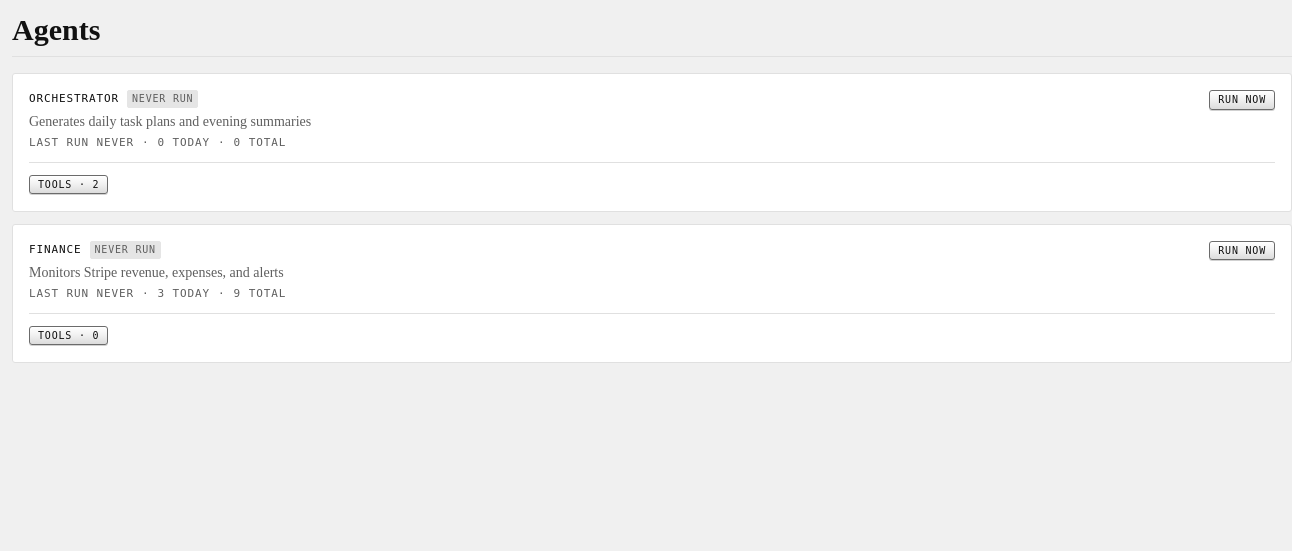
Test: Agents page toolbox (V20 L4) › gives each agent a collapsed Tools button; expanding shows THAT agent's real tools and descriptions; one capabilities read serves the roster
This screenshot has width=1292, height=551.
Expected: the text "macro_snapshot" is not shown
Click the button "Tools · 2" at point(69, 185), box [29,175,108,194]
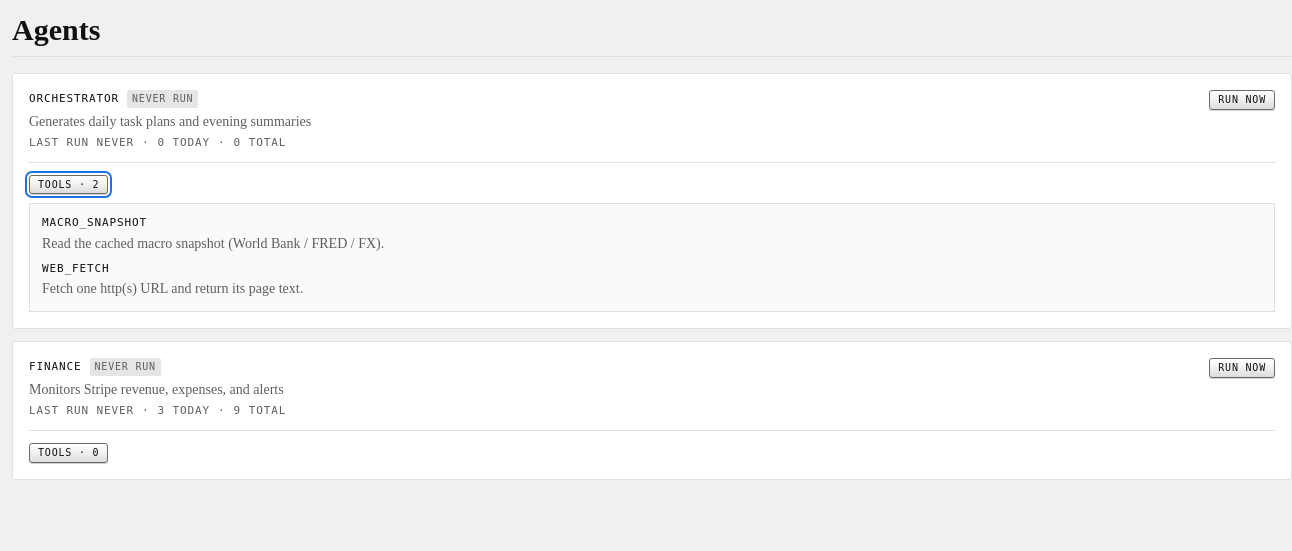
Expected: the text "macro_snapshot" is shown, [42,216,147,229]
Expected: the text "Read the cached macro snapshot (World Bank / FRED / FX)." is shown, [42,236,384,250]
Expected: the text "web_fetch" is shown, [42,262,110,274]
Click the button "Tools · 0" at point(69, 453), box [29,443,108,462]
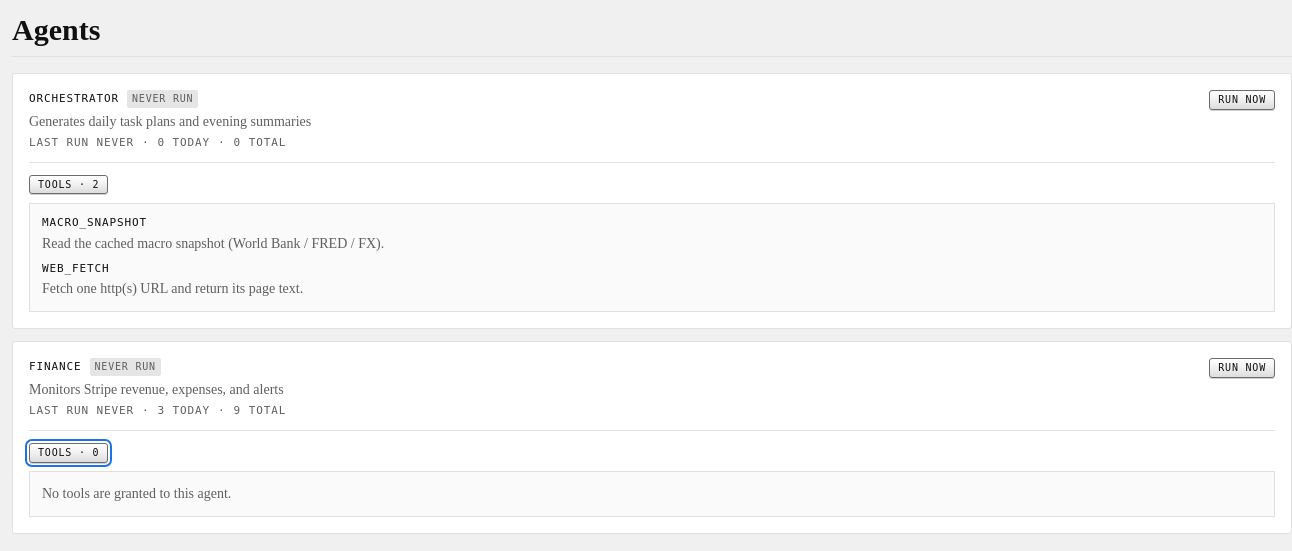
Expected: the text "No tools are granted to this agent." is shown, [42,486,231,501]
